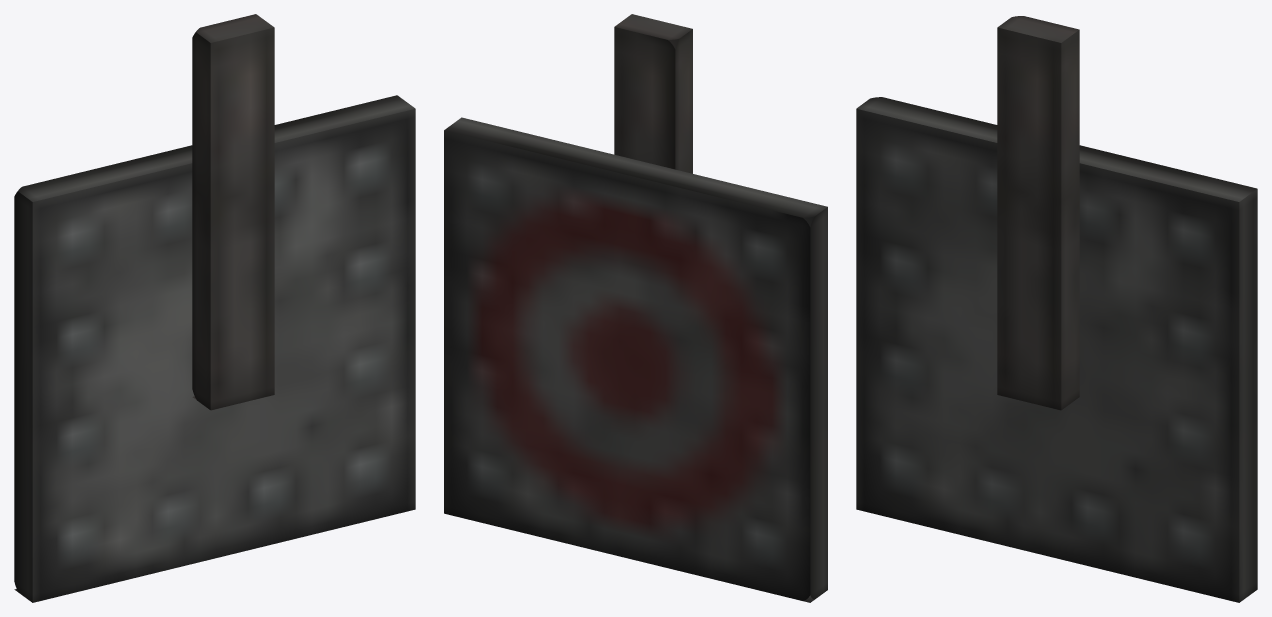
Rendered from target.obj.
3 views of the same model, side by side, from view 1: azimuth 30°, elevation 25°; view 2: azimuth 150°, elevation 25°; view 3: azimuth 330°, elevation 25° (orthographic). The views are drawn at different scales.
Parts seen in each view (by area): view 1: nx, ny; view 2: nx, ny; view 3: nx, ny.
Part boxes in pixels (x1,y1,x2,y2): nx: [14, 95, 415, 602]; ny: [192, 14, 274, 410]; nx: [444, 117, 827, 602]; ny: [614, 14, 692, 173]; nx: [856, 97, 1257, 602]; ny: [997, 16, 1079, 410].
Size of the model in its own units: 0.75 by 1 by 0.125.
Materials: 1 (1 with a texture image).
